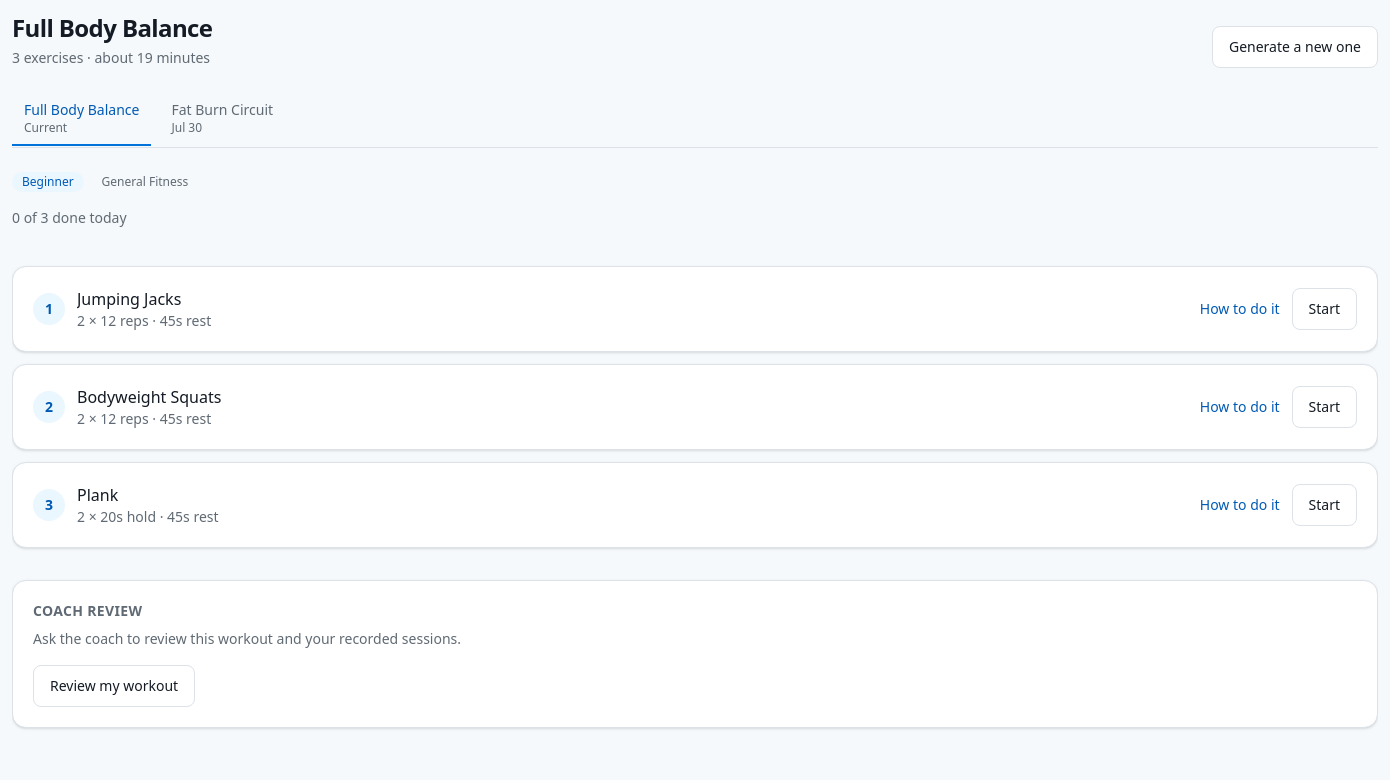
Test: the workout page › opens an earlier plan when its tab is chosen
Click the tab "Fat Burn Circuit Jul 30" at [222, 119], box [159,92,285,146]
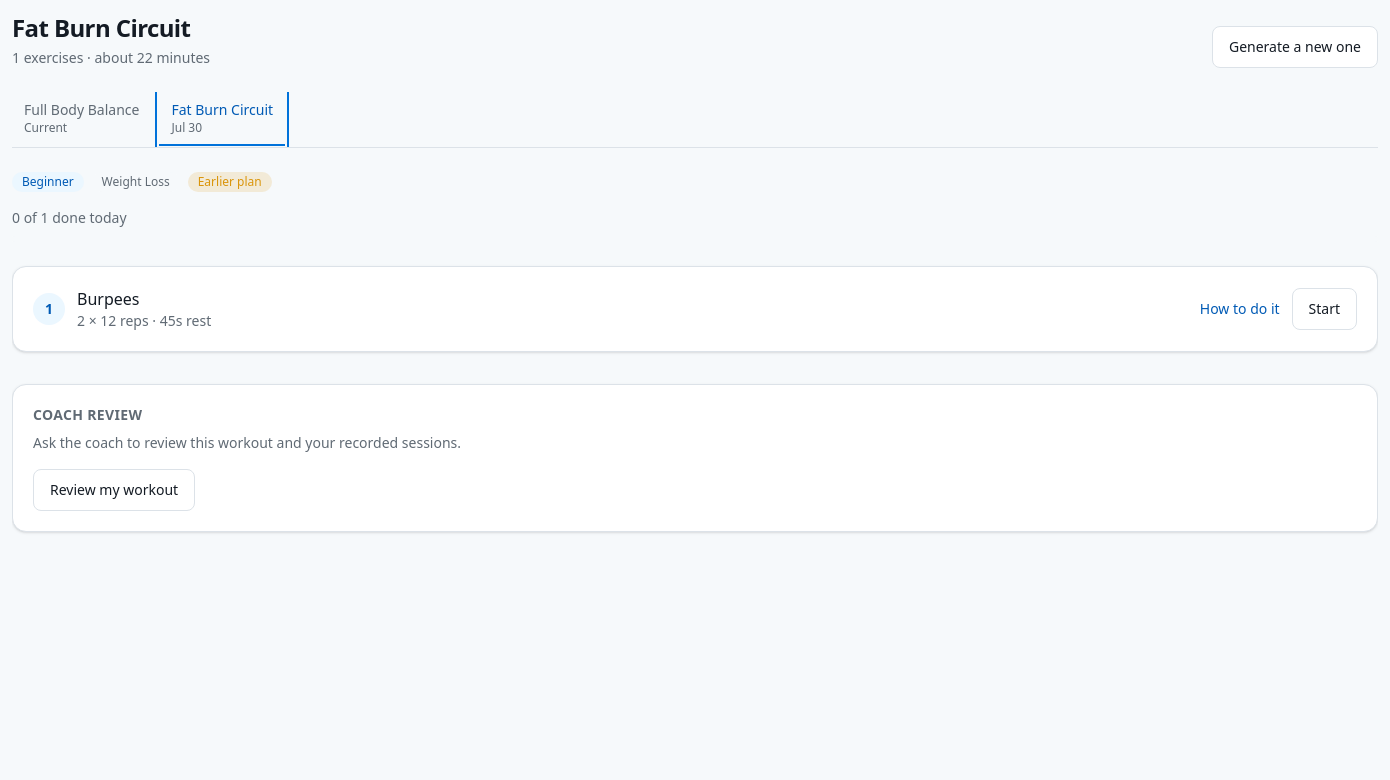
Check: the text "Burpees" is shown, box [77,287,140,311]
Check: the text "Earlier plan" is shown, box [188,172,272,192]
